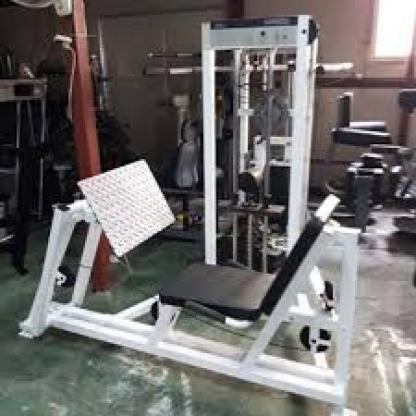leg press: (16, 14, 371, 406)
